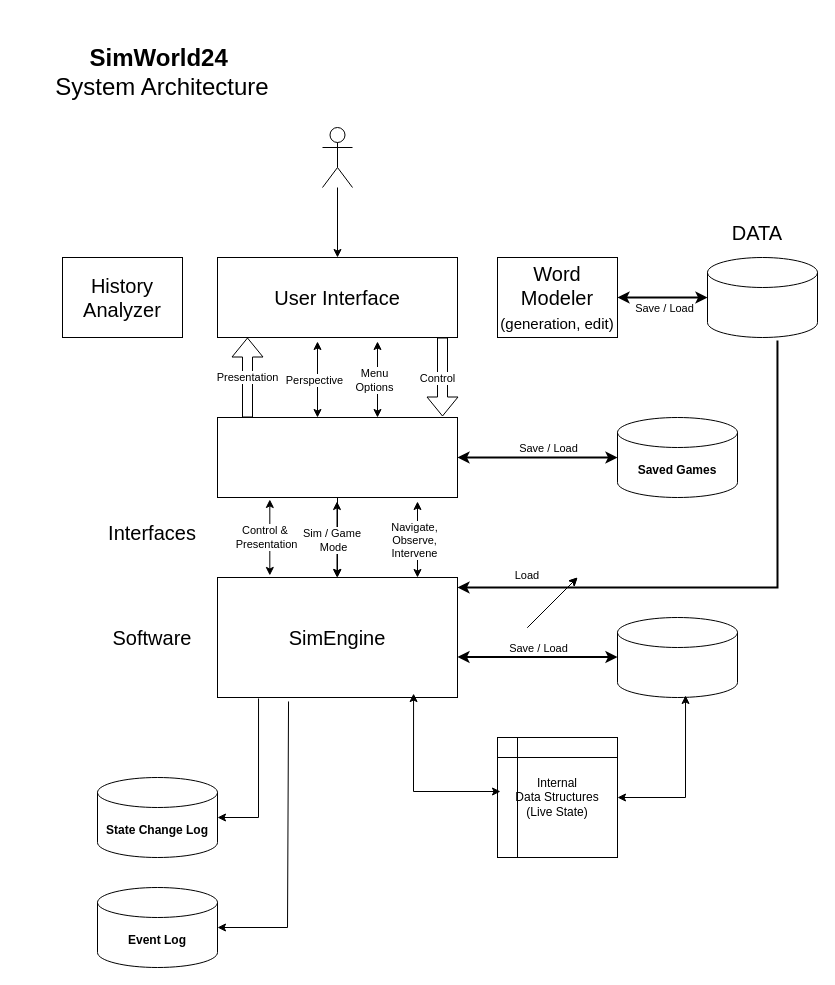
Image size: 835x985. Some labels were removed from this diagram. The centre of each missing label's shape, as x and y in pixels:
"Game App" goes at point (337, 457).
"Persisted Simulation State" goes at point (677, 657).
"Player" goes at point (337, 157).
"World Model Configuration" goes at point (762, 297).
